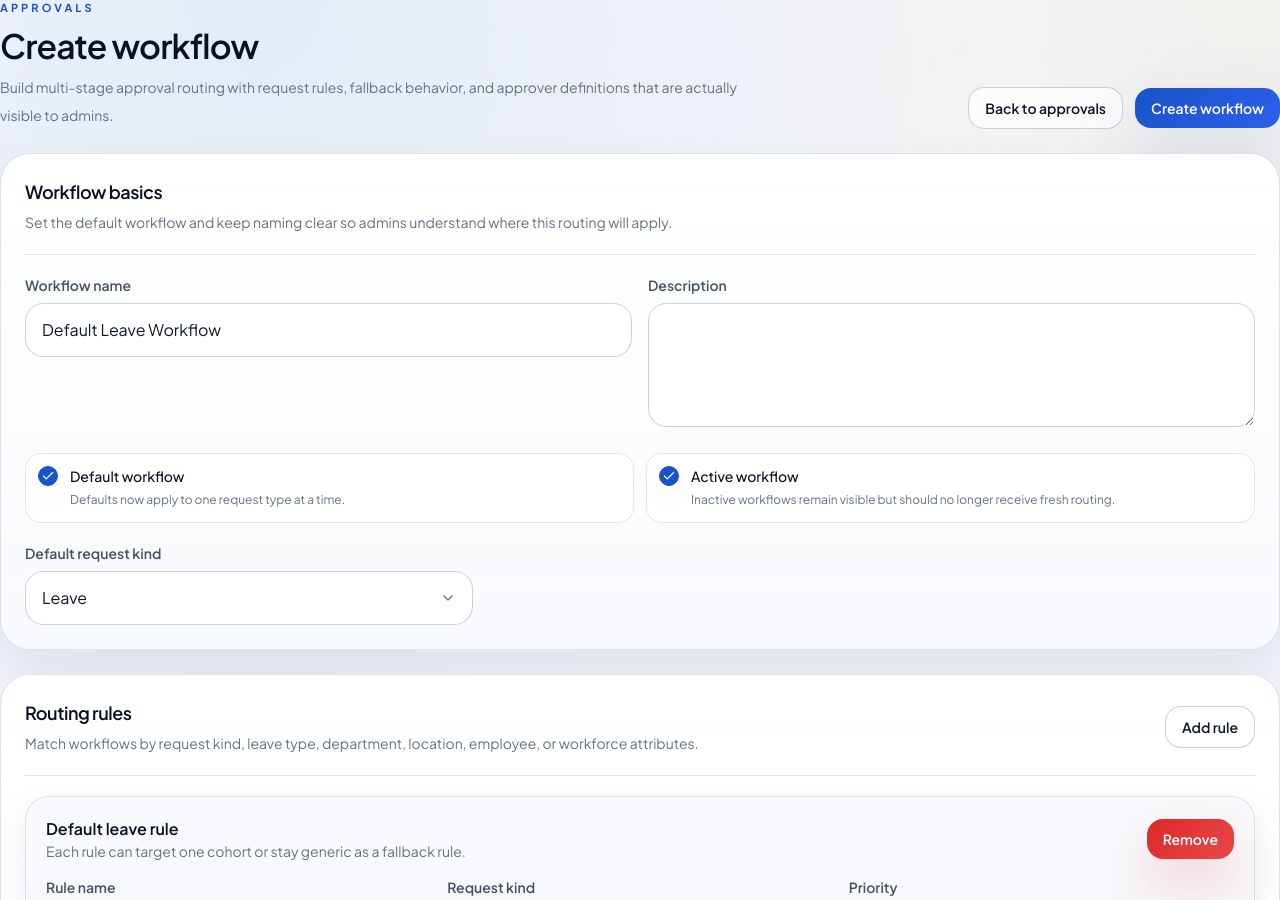
Test case: ApprovalWorkflowBuilderPage › shows promotion and transfer as configurable workflow types
The width and height of the screenshot is (1280, 900).
Click the button "Leave". click: (65, 597)
box: [25,571,473,625]
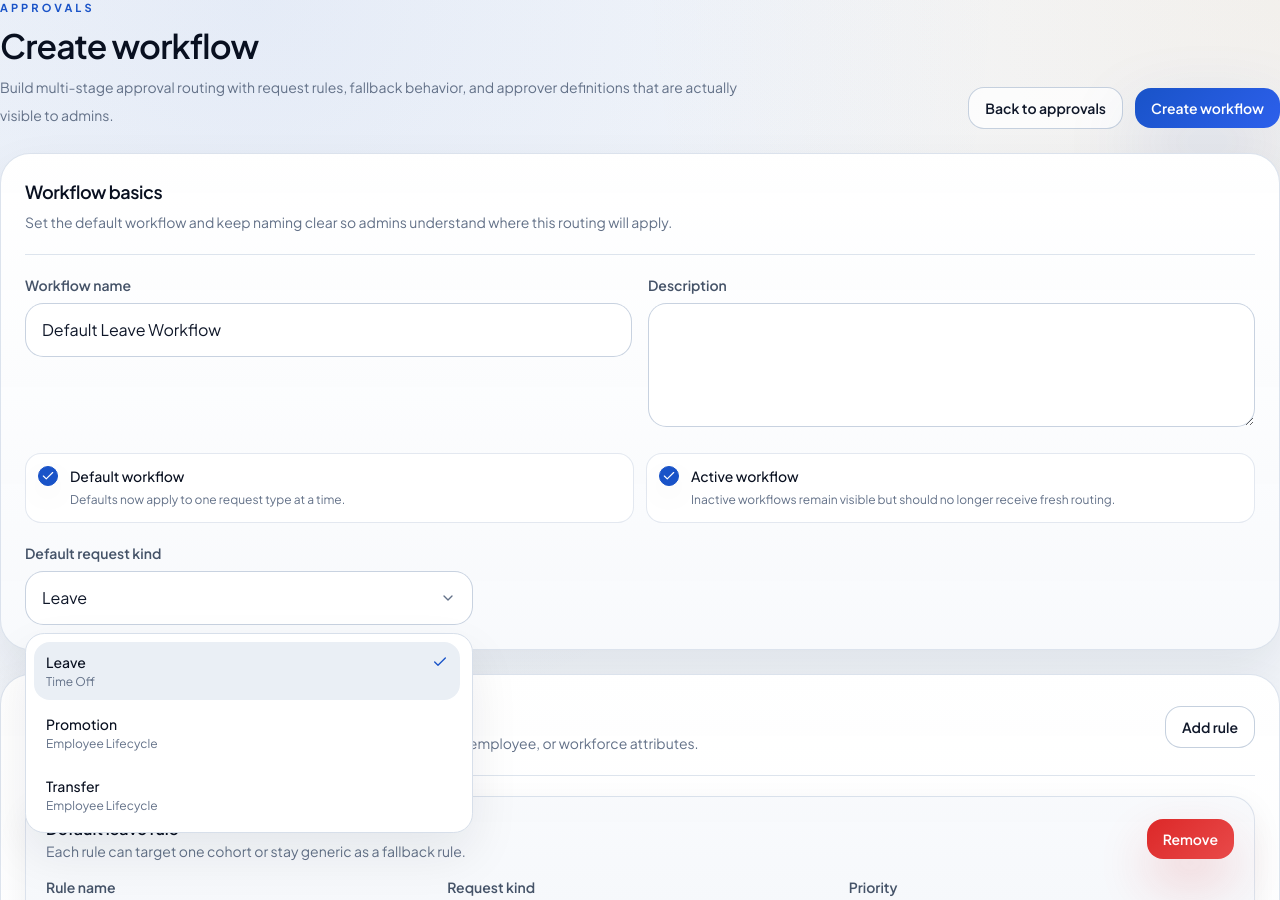
Result: the text "Promotion" is shown at [46,715,117,733]
Result: the text "Transfer" is shown at [46,777,99,795]
